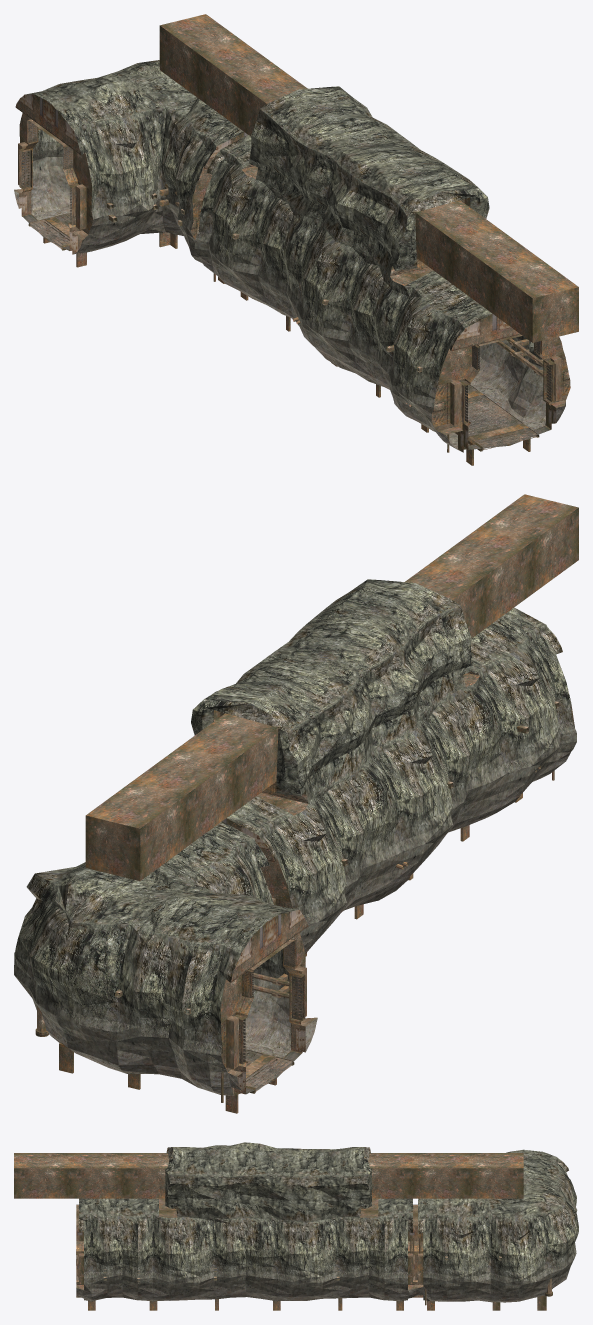
The model's file is poi_all_bunker_allum_mine_r44_hall44_mesh_r44.fbx.
3 renders of one model, top to bottom at view 1: azimuth 30°, elevation 25°; view 2: azimuth 150°, elevation 25°; view 3: azimuth 270°, elevation 25°, orthographic. The views are drawn at different scales.
Parts seen in each view (by area): view 1: mesh_node; view 2: mesh_node; view 3: mesh_node.
Boxes of the visible parts, x1=… form: mesh_node: x1=14, y1=14, x2=578, y2=465; mesh_node: x1=14, y1=494, x2=578, y2=1113; mesh_node: x1=14, y1=1142, x2=578, y2=1310.
Size of the model in its own units: 11.39 by 10.82 by 36.65.
